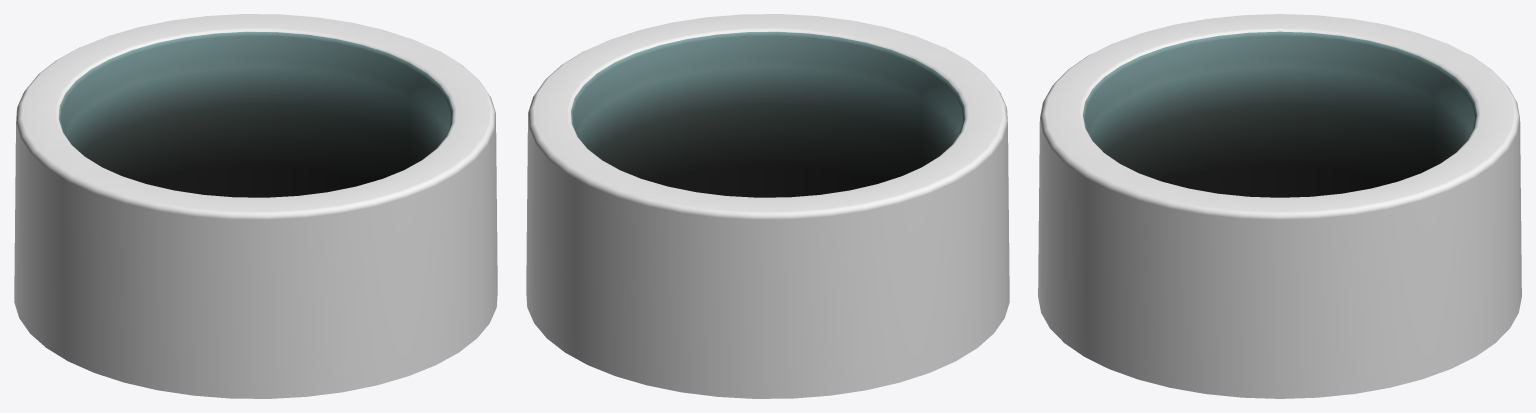
File: Holewhite.fbx
3 views of the same model, side by side, from view 1: azimuth 30°, elevation 25°; view 2: azimuth 150°, elevation 25°; view 3: azimuth 270°, elevation 25° (orthographic).
Parts seen in each view (by area): view 1: Holewhite; view 2: Holewhite; view 3: Holewhite.
Boxes of the visible parts, box(x1,y1,x2,y2) form: Holewhite: box(14, 14, 497, 398); Holewhite: box(526, 14, 1009, 398); Holewhite: box(1038, 14, 1521, 398).
Bounding box in the file's own units: 1.96 × 0.8219 × 1.96.
Materials: 1 (1 with a texture image).
